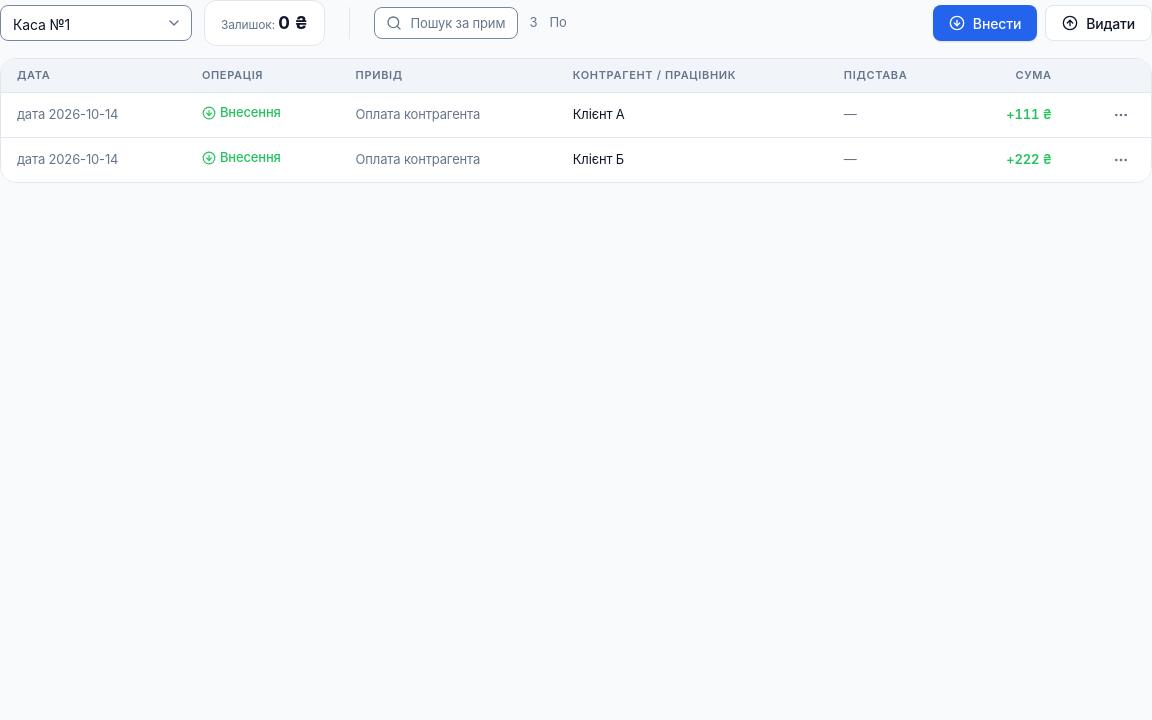
Test: CashOperationsTab — дія «Сторнувати» › кнопка відкриває картку сторно саме цього рядка
The width and height of the screenshot is (1152, 720).
Click the button named "Дії рядка" in the row of "Клієнт Б". click: (1121, 160)
box: [1107,146,1135,174]
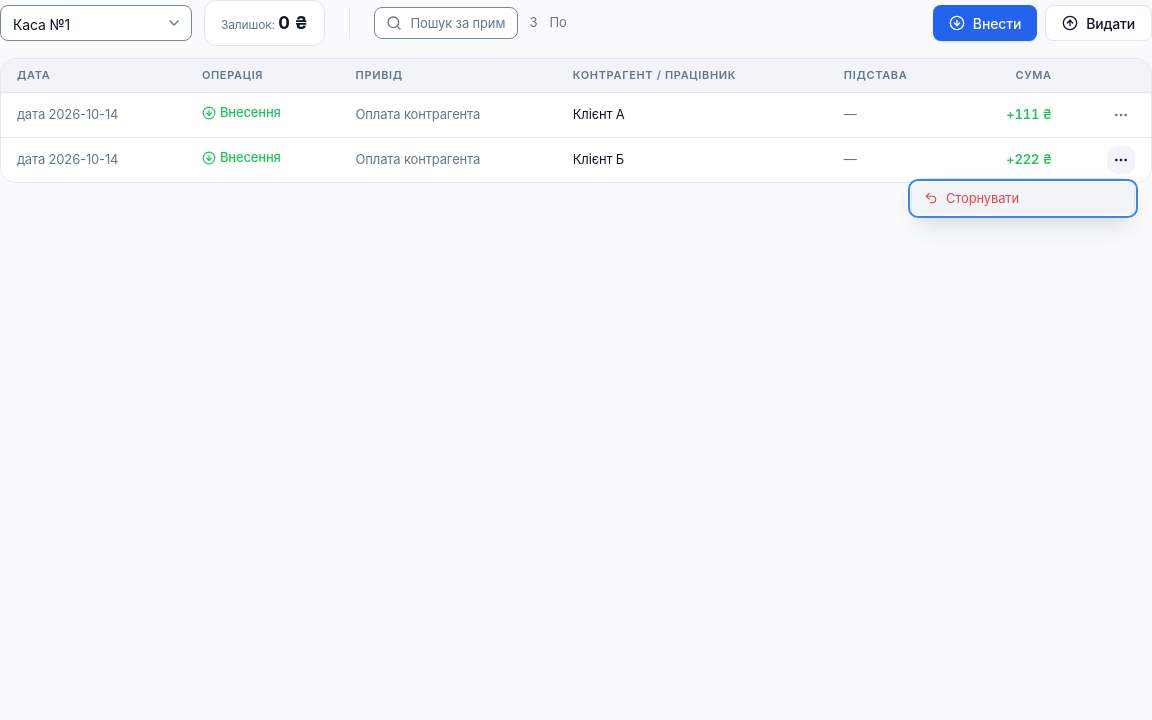
Click the menu item "Сторнувати". click: (1023, 198)
box: [912,182,1134,214]
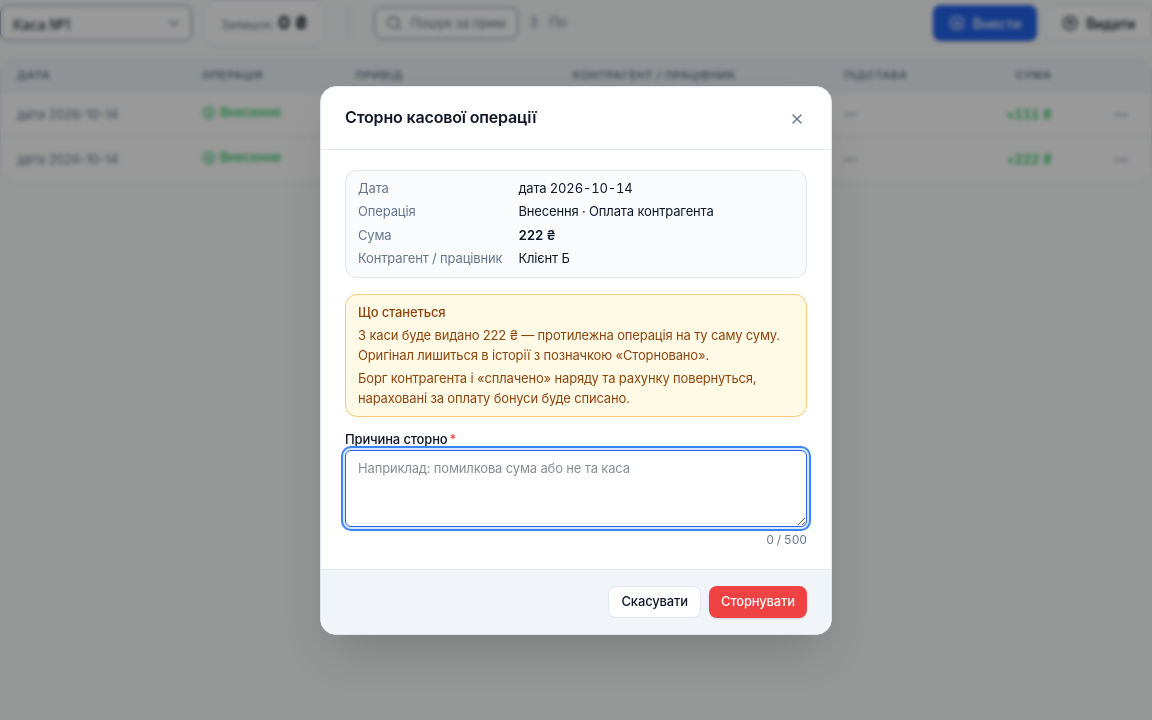
Expected: the text "222 ₴" is shown, [518,226,556,242]
Expected: the text "Клієнт Б" is shown, [518,250,570,266]
